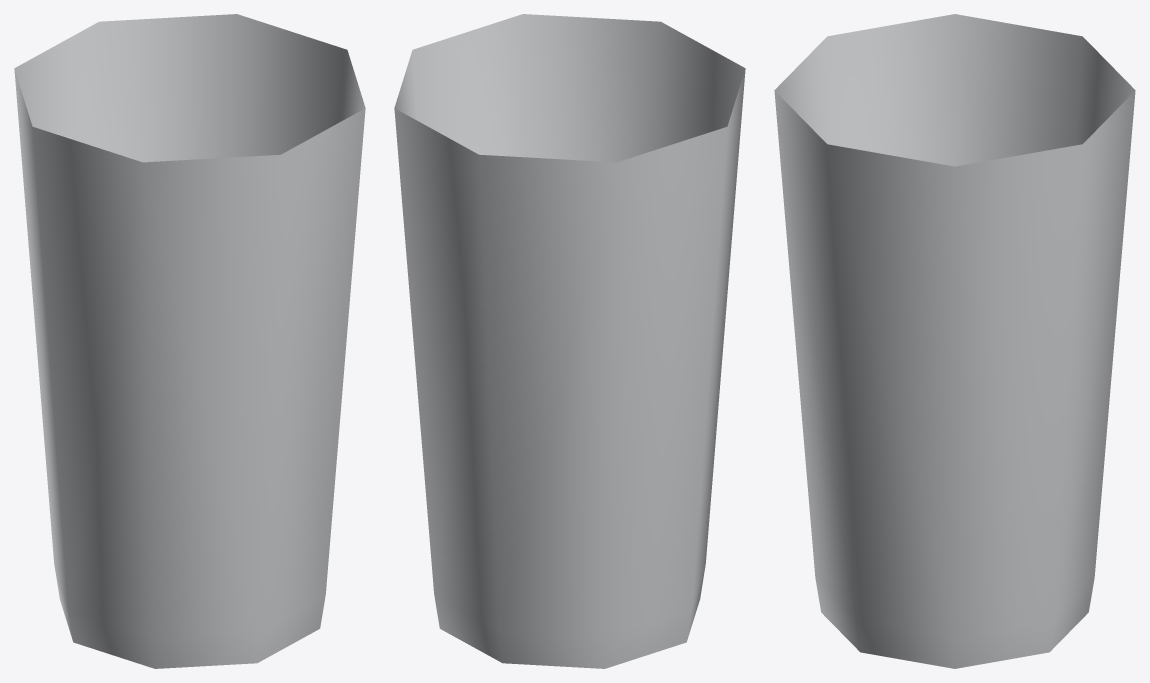
File: Glass.glb
3 views of the same model, side by side, from view 1: azimuth 30°, elevation 25°; view 2: azimuth 150°, elevation 25°; view 3: azimuth 270°, elevation 25° (orthographic).
Visible parts, largest first — view 1: sercups_glass_Cylinder.108; view 2: sercups_glass_Cylinder.108; view 3: sercups_glass_Cylinder.108.
Part boxes in pixels (x1=…): sercups_glass_Cylinder.108: x1=14, y1=14, x2=365, y2=668; sercups_glass_Cylinder.108: x1=394, y1=14, x2=745, y2=668; sercups_glass_Cylinder.108: x1=774, y1=14, x2=1135, y2=668.
Size of the model in its own units: 1.74 by 2.77 by 1.74.
1 material, 1 textured.
